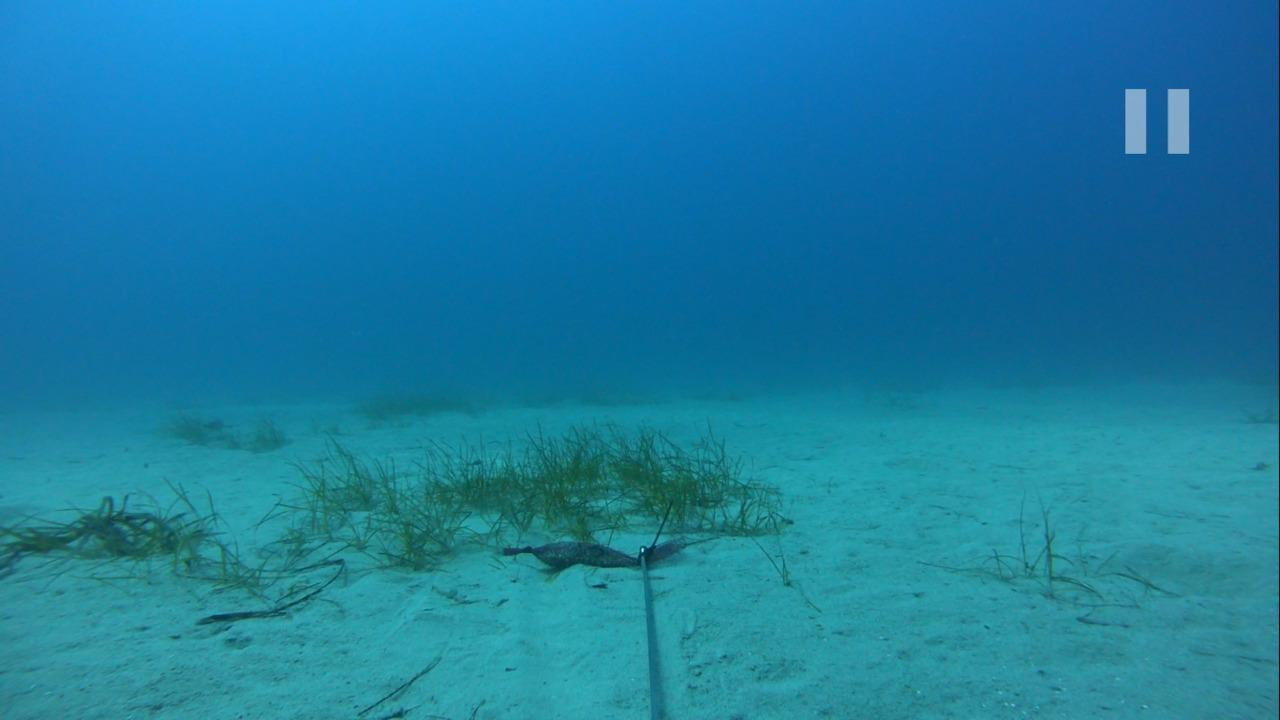dactylopterus: (184, 411, 242, 446)
